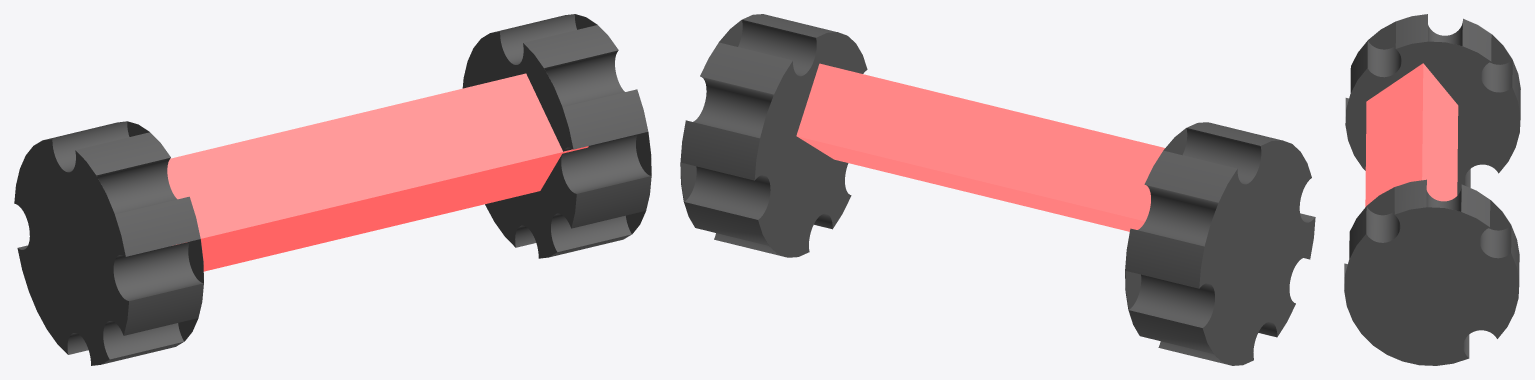
The model's file is vertDyn.glb.
3 views of the same model, side by side, from view 1: azimuth 30°, elevation 25°; view 2: azimuth 150°, elevation 25°; view 3: azimuth 270°, elevation 25° (orthographic). The views are drawn at different scales.
Visible parts, largest first — view 1: Box399, Cylinder468, Cylinder469; view 2: Cylinder468, Box399, Cylinder469; view 3: Cylinder469, Cylinder468, Box399.
Boxes of the visible parts, x1,y1,x2,y2 form: Box399: (167, 73, 588, 271); Cylinder468: (14, 121, 203, 365); Cylinder469: (462, 14, 651, 258); Cylinder468: (1125, 122, 1315, 365); Box399: (796, 63, 1164, 231); Cylinder469: (680, 14, 867, 257); Cylinder469: (1344, 179, 1519, 365); Cylinder468: (1345, 14, 1520, 195); Box399: (1365, 63, 1458, 206).
Bounding box in the file's own units: 0.0388 × 0.015 × 0.015.
